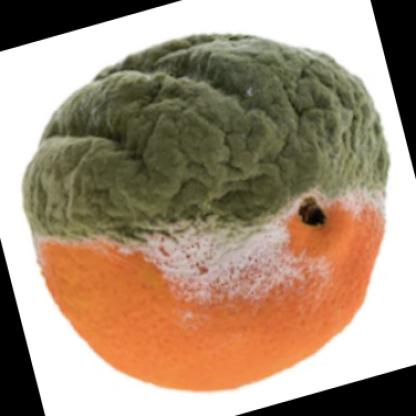rotten_orange: (23, 30, 392, 396)
